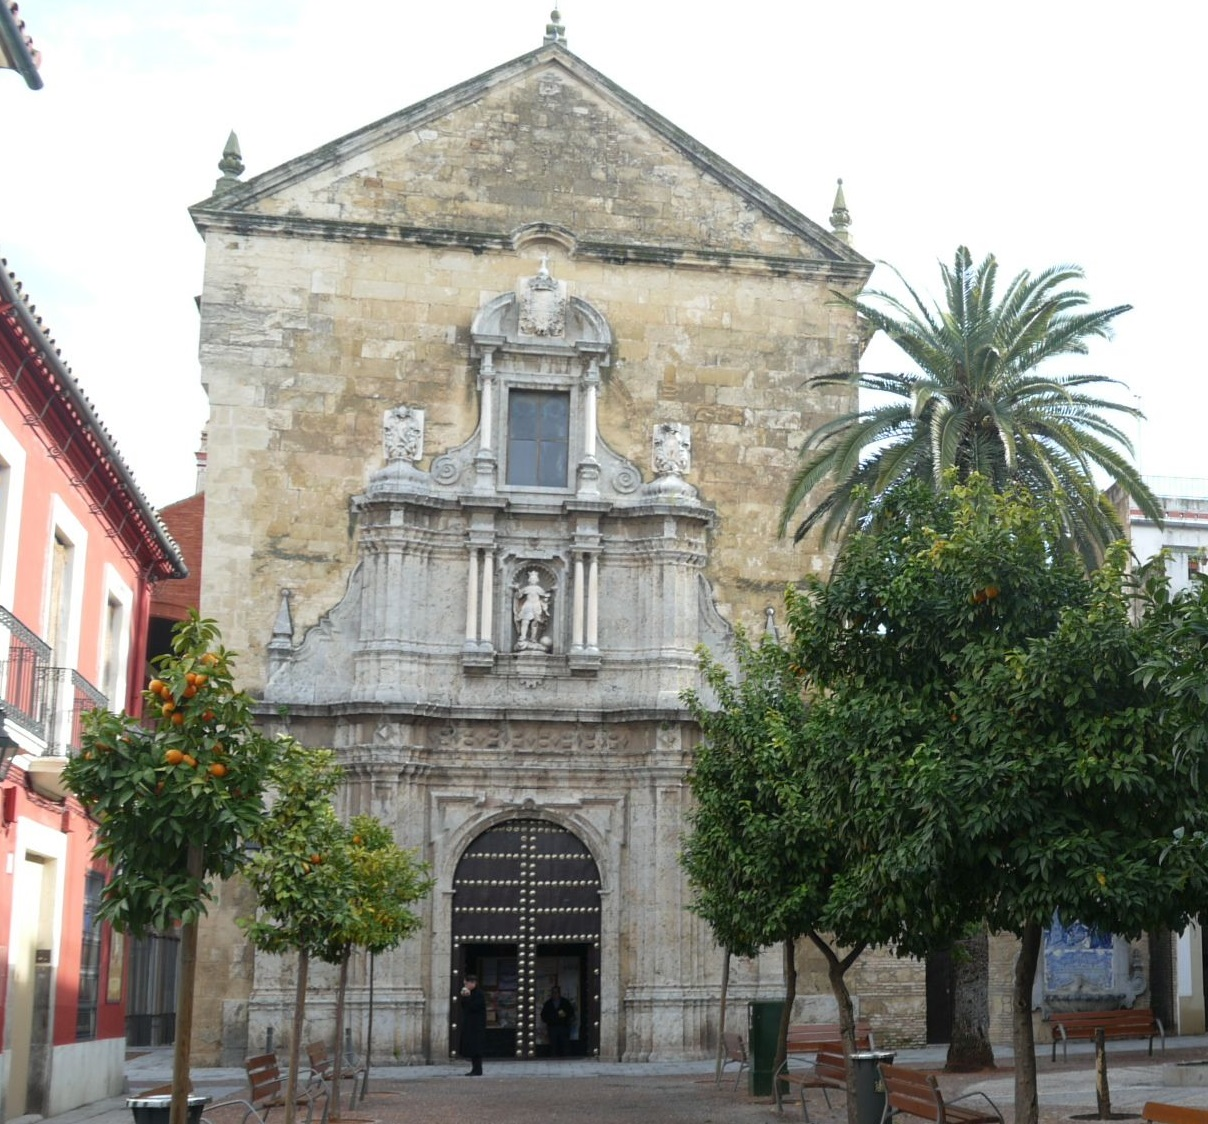arco-medio-punto: (438, 802, 618, 905)
fronton: (187, 44, 879, 287)
fronton-partido: (466, 289, 620, 363)
